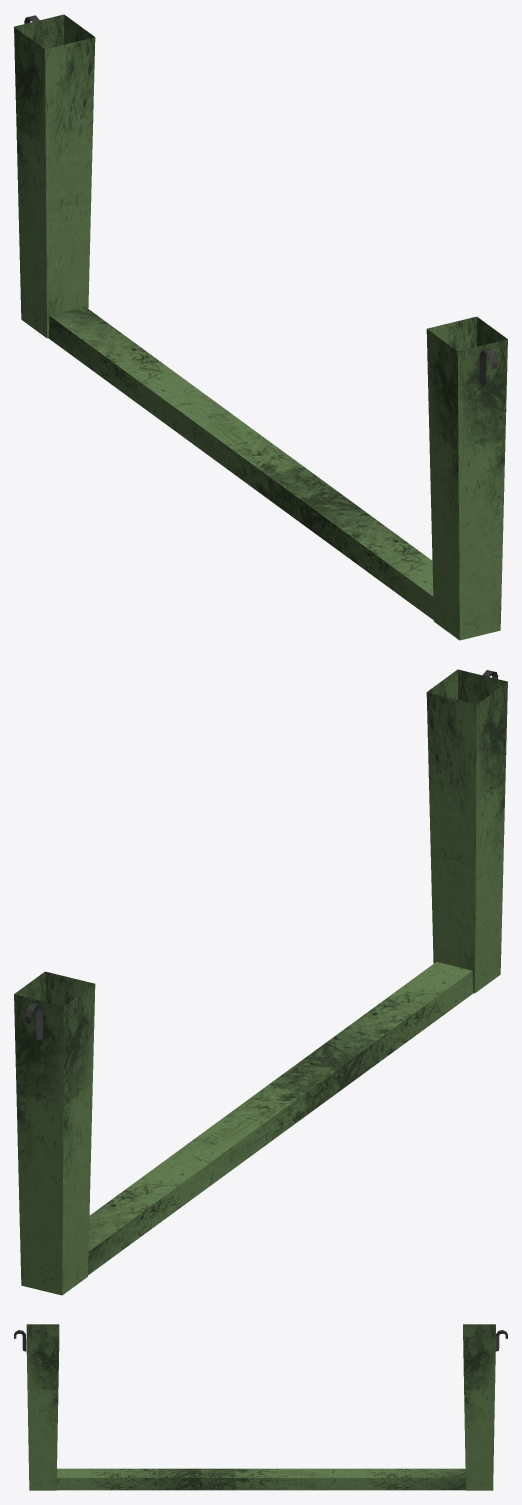
Rendered from SuperiorRakLow.fbx.
The picture shows the model from 3 angles, top to bottom: view 1: azimuth 30°, elevation 25°; view 2: azimuth 150°, elevation 25°; view 3: azimuth 270°, elevation 25°; orthographic projection. The views are drawn at different scales.
Visible parts, largest first — view 1: Rak_Superior2; view 2: Rak_Superior2; view 3: Rak_Superior2.
Part boxes in pixels (x1,y1,x2,y2): Rak_Superior2: [14, 14, 507, 640]; Rak_Superior2: [14, 669, 507, 1295]; Rak_Superior2: [14, 1324, 495, 1490].
Size of the model in its own units: 27.81 by 155 by 448.
Materials: 1 (1 with a texture image).
